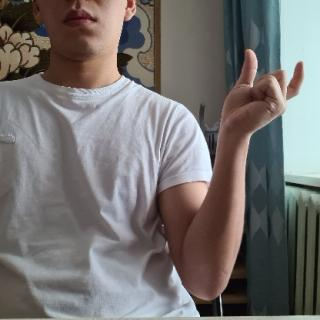NOON: (215, 46, 308, 144)
